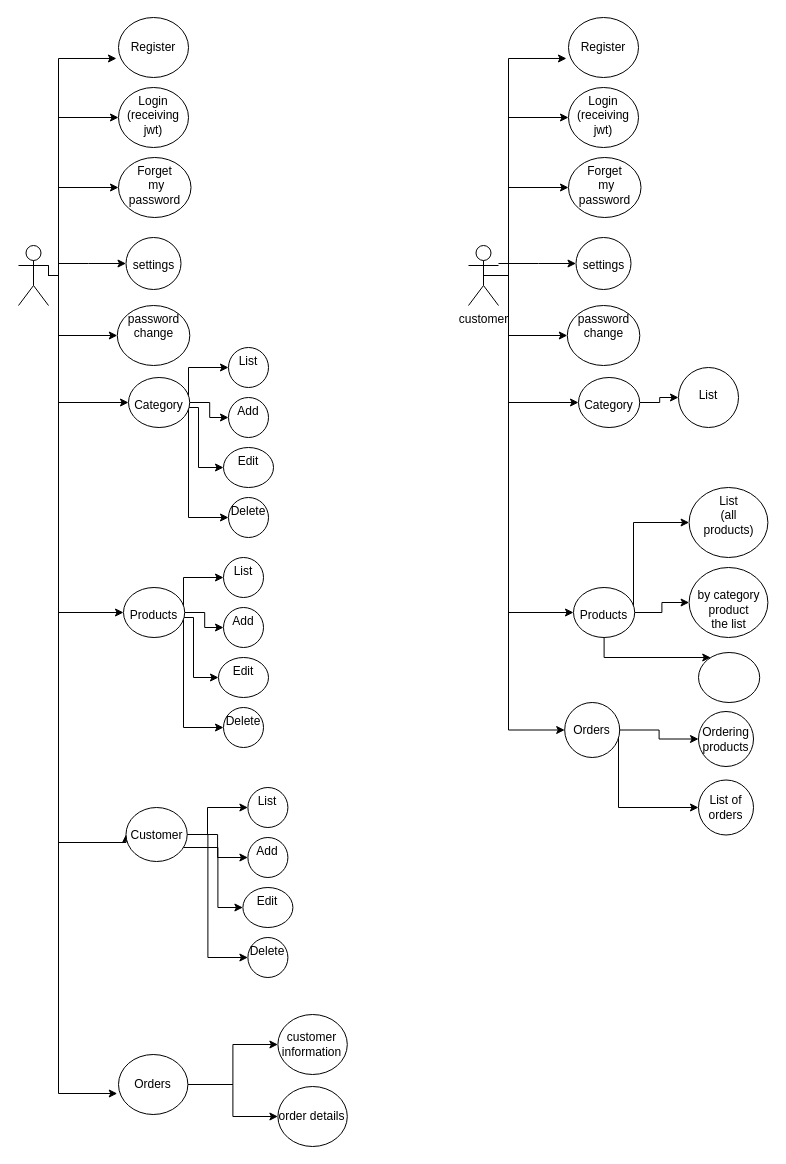
Some shapes in this 786 by 1164 pixel diagram are drawn without their labels. The shapes that lost their labels are listed below. From the top down, each one's centre as x and y in pixels, then its label:
point (33, 275): admin
point (729, 677): Product search
